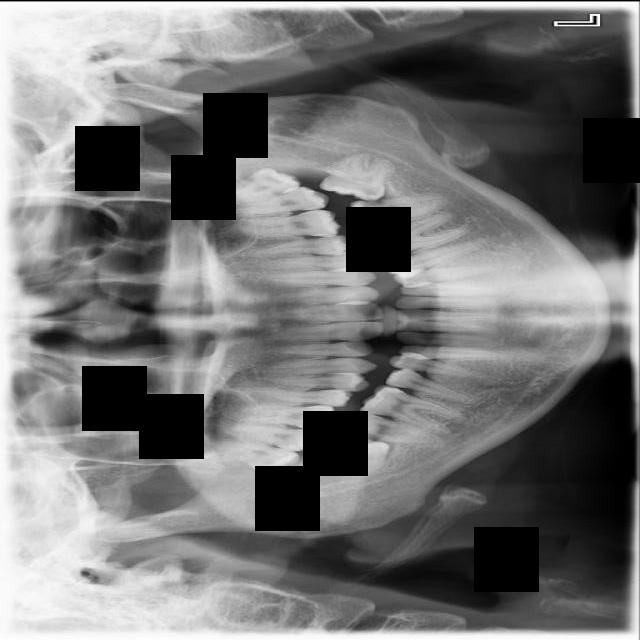3M ESPE Implant: (209, 438, 299, 475)
52: (357, 374, 409, 425), (361, 218, 407, 267), (362, 198, 383, 209), (362, 431, 381, 441)
73: (542, 82, 542, 82)
BioHorizons Implant: (232, 183, 328, 216)
BioLife Implant: (220, 160, 300, 207)
Biomet 3i Implant: (317, 145, 392, 203)
Blue Sky Bio Implant: (350, 190, 449, 234)
Caries: (225, 423, 322, 452)
Implant: (344, 409, 440, 449)
Keystone Dental Implant: (321, 437, 392, 478)
